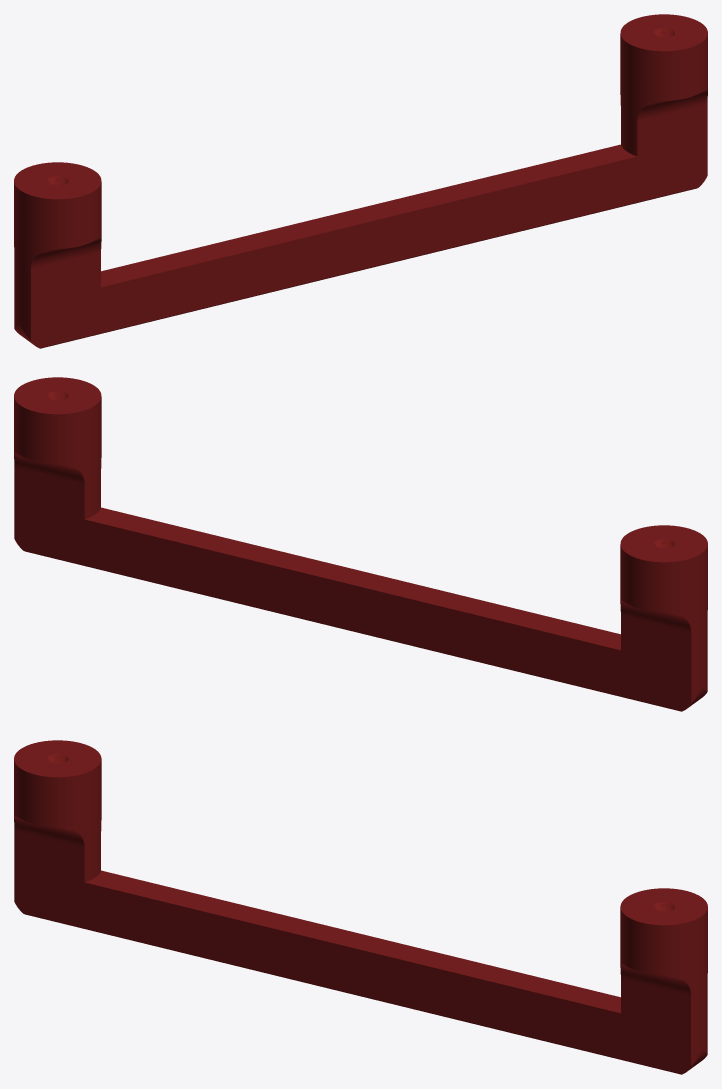
The model's file is griff-1.gltf.
The picture shows the model from 3 angles, top to bottom: view 1: azimuth 30°, elevation 25°; view 2: azimuth 150°, elevation 25°; view 3: azimuth 330°, elevation 25°; orthographic projection.
Visible parts, largest first — view 1: 00010104_202406100955260107_0001; view 2: 00010104_202406100955260107_0001; view 3: 00010104_202406100955260107_0001.
Part boxes in pixels (bbox=[...]): 00010104_202406100955260107_0001: bbox=[14, 14, 707, 348]; 00010104_202406100955260107_0001: bbox=[14, 377, 707, 711]; 00010104_202406100955260107_0001: bbox=[14, 740, 707, 1074].
Size of the model in its own units: 144 by 32 by 16.
